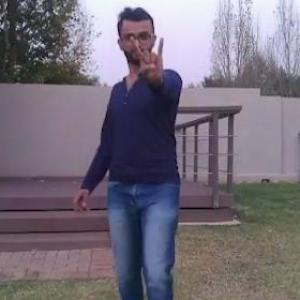takeoff-hand: (128, 32, 169, 90)
